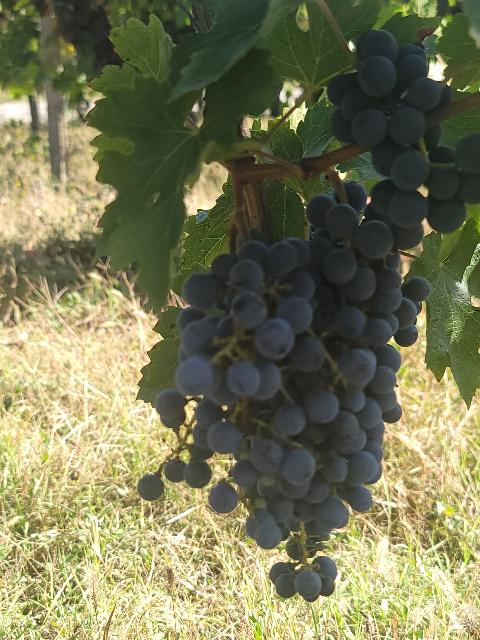grapes: (306, 181, 429, 444), (328, 30, 480, 234)
